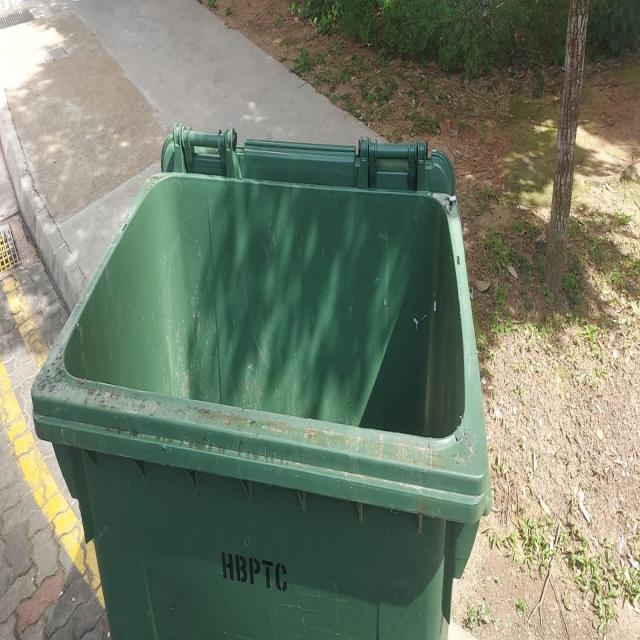bin_empty: (36, 118, 474, 639)
